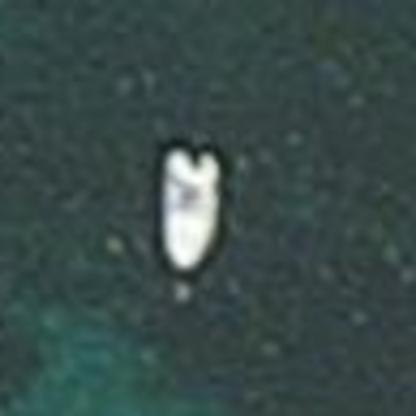ship: (142, 134, 233, 286)
